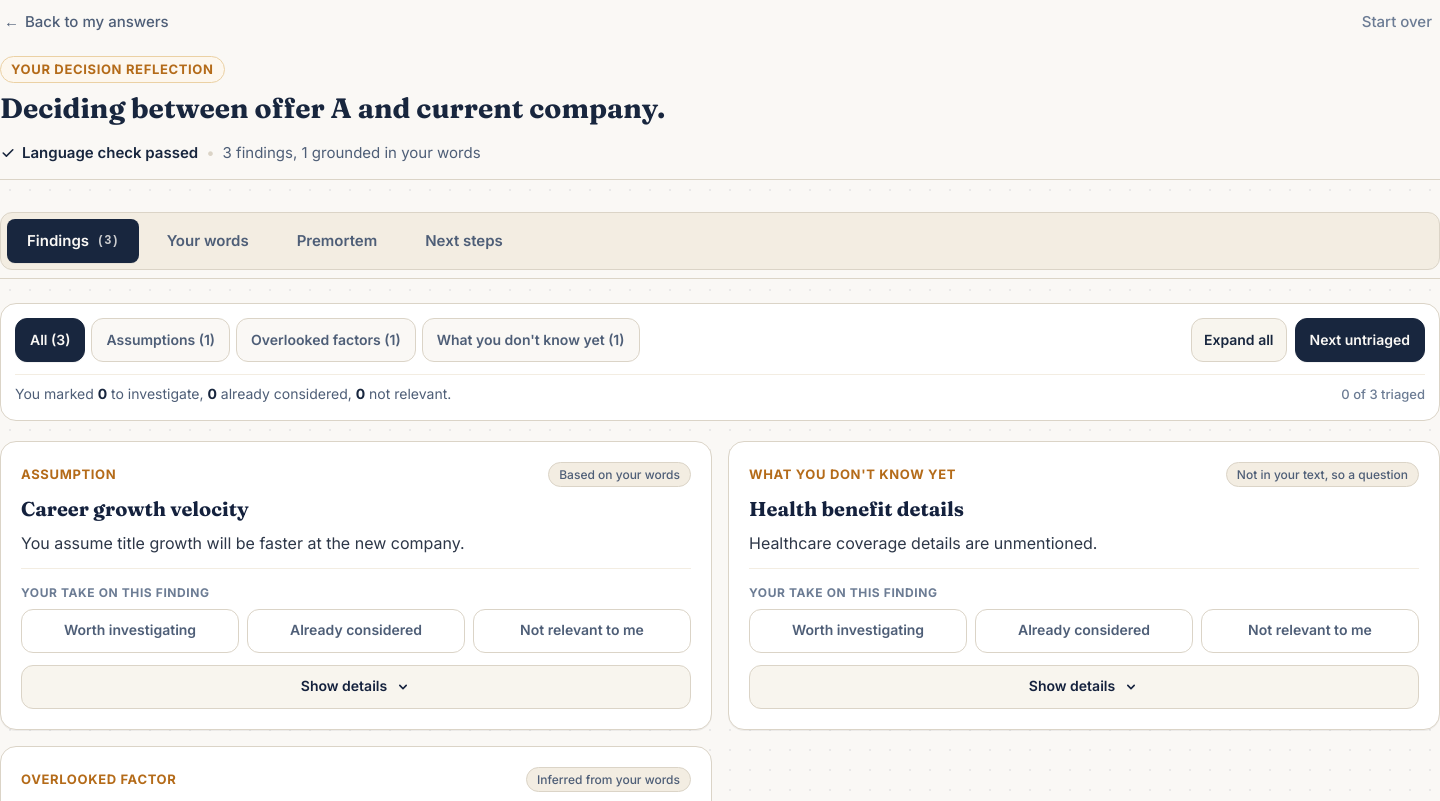
it: ResultsView & Safe Rendering › In your words tab renders grounded highlights as <mark> elements
The image size is (1440, 801).
Navigate to "Your words" tab
Click the tab "Your words": (208, 241) [147,219,269,263]
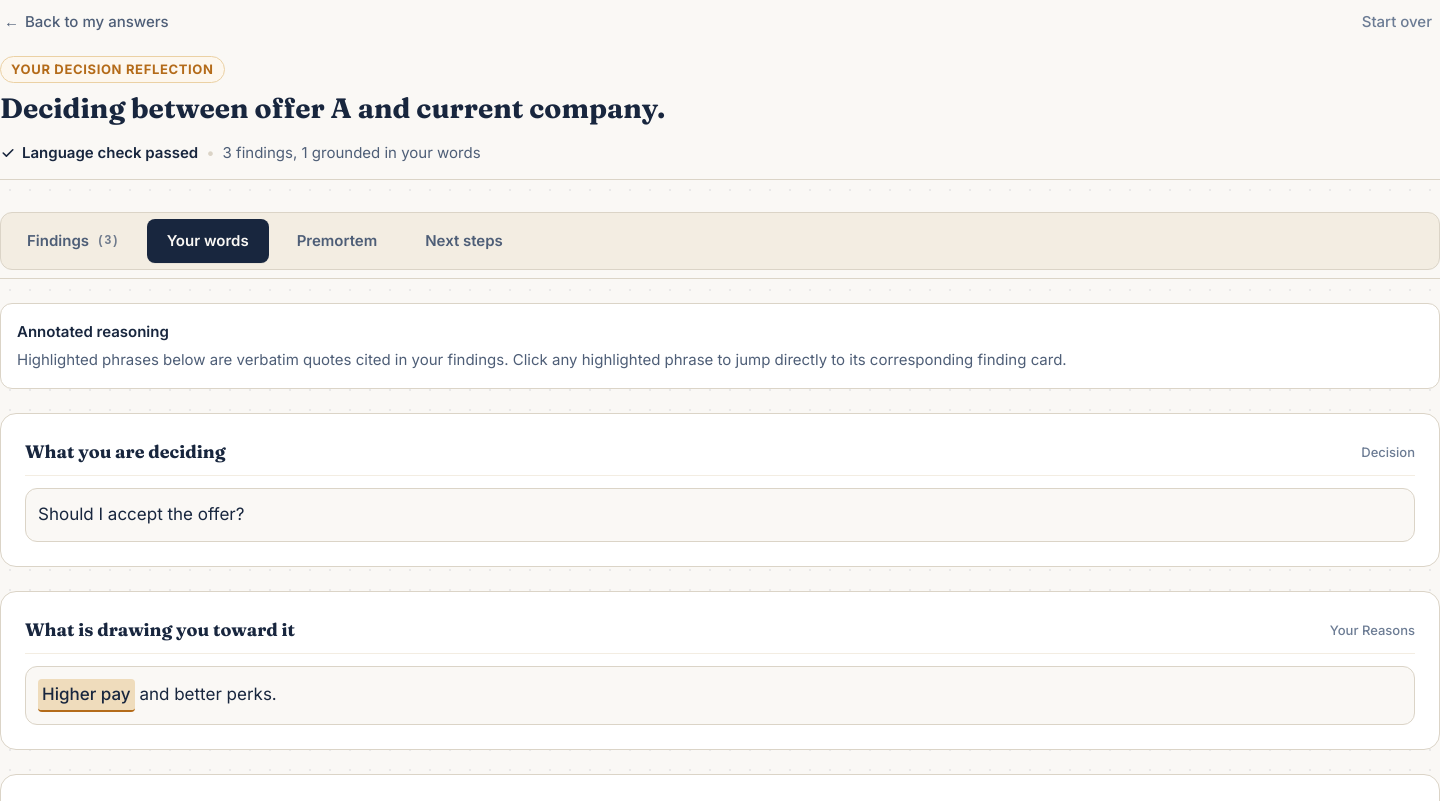
Expected: the element showing "Higher pay" is shown, [38,678,135,712]
